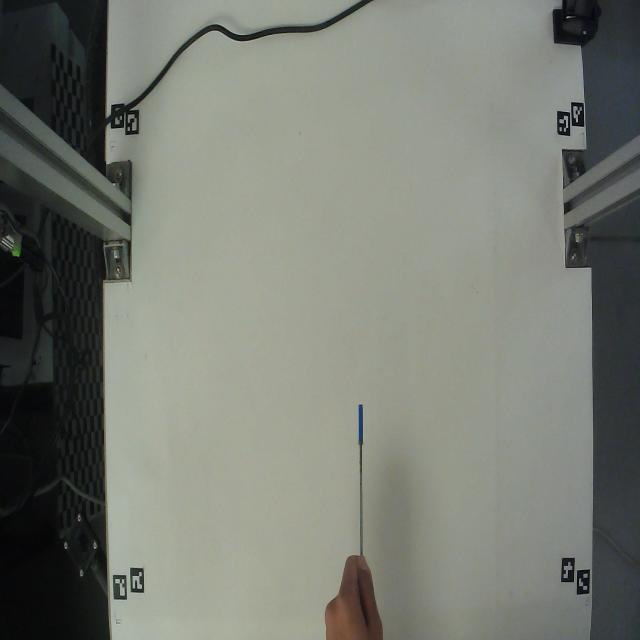NoPres: (346, 396, 371, 566)
